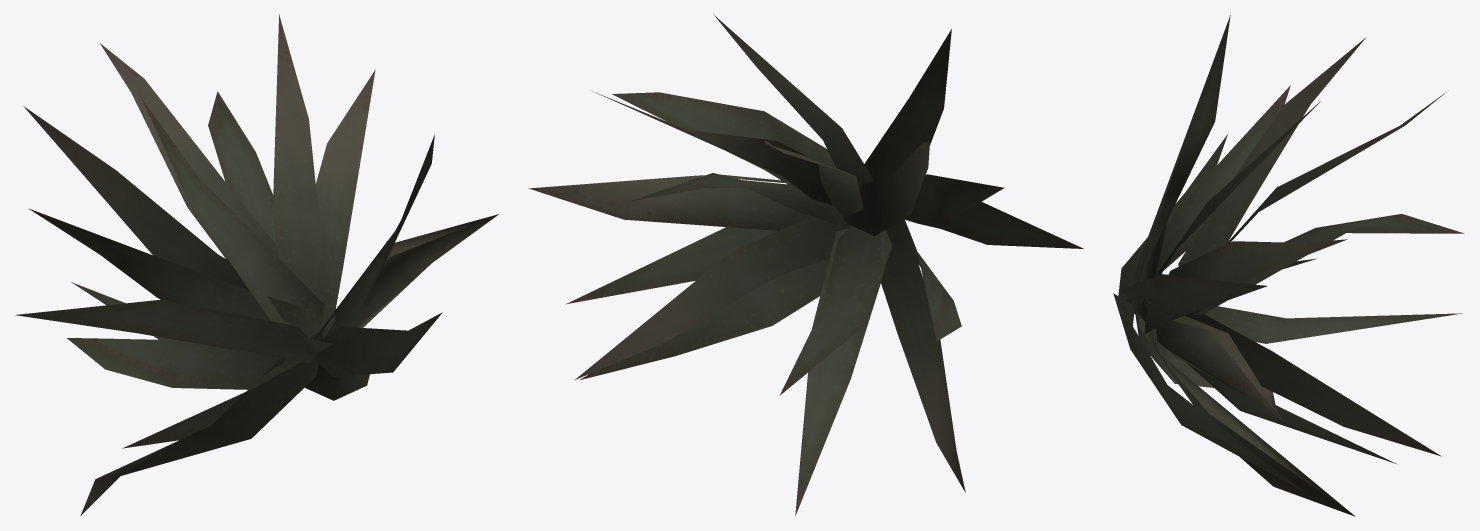
Rendered from DE_Cactus_b_02_LOD_02.fbx.
The picture shows the model from 3 angles, left to right: view 1: azimuth 30°, elevation 25°; view 2: azimuth 150°, elevation 25°; view 3: azimuth 270°, elevation 25°; orthographic projection. The views are drawn at different scales.
Visible parts, largest first — view 1: DE_Cactus_b_02_LOD_02; view 2: DE_Cactus_b_02_LOD_02; view 3: DE_Cactus_b_02_LOD_02.
Part boxes in pixels (bbox=[...]): DE_Cactus_b_02_LOD_02: bbox=[15, 14, 498, 515]; DE_Cactus_b_02_LOD_02: bbox=[528, 14, 1083, 515]; DE_Cactus_b_02_LOD_02: bbox=[1113, 15, 1464, 516].
Bounding box in the file's own units: 3.39 × 2.73 × 2.07.
